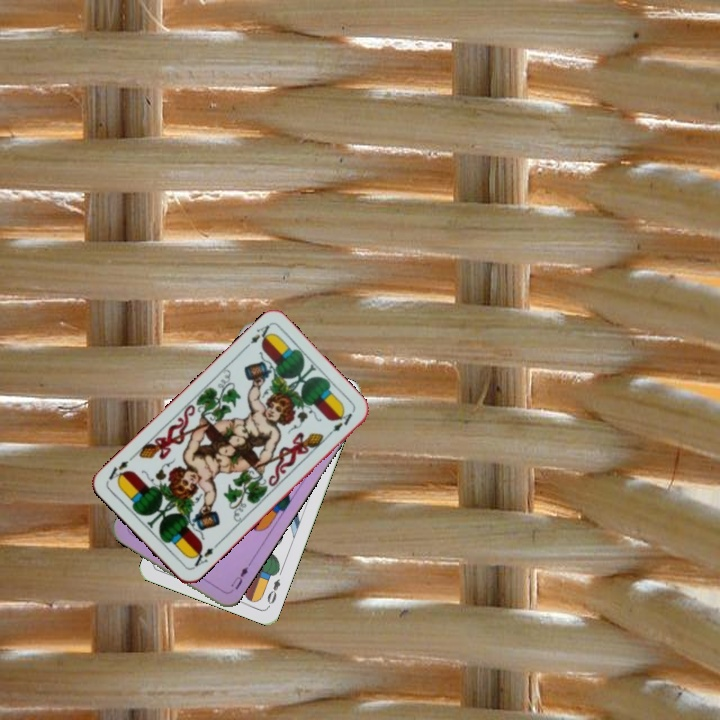EA: (187, 539, 221, 571), (240, 320, 274, 352)
EO: (263, 575, 283, 609)
EU: (225, 560, 253, 596)
